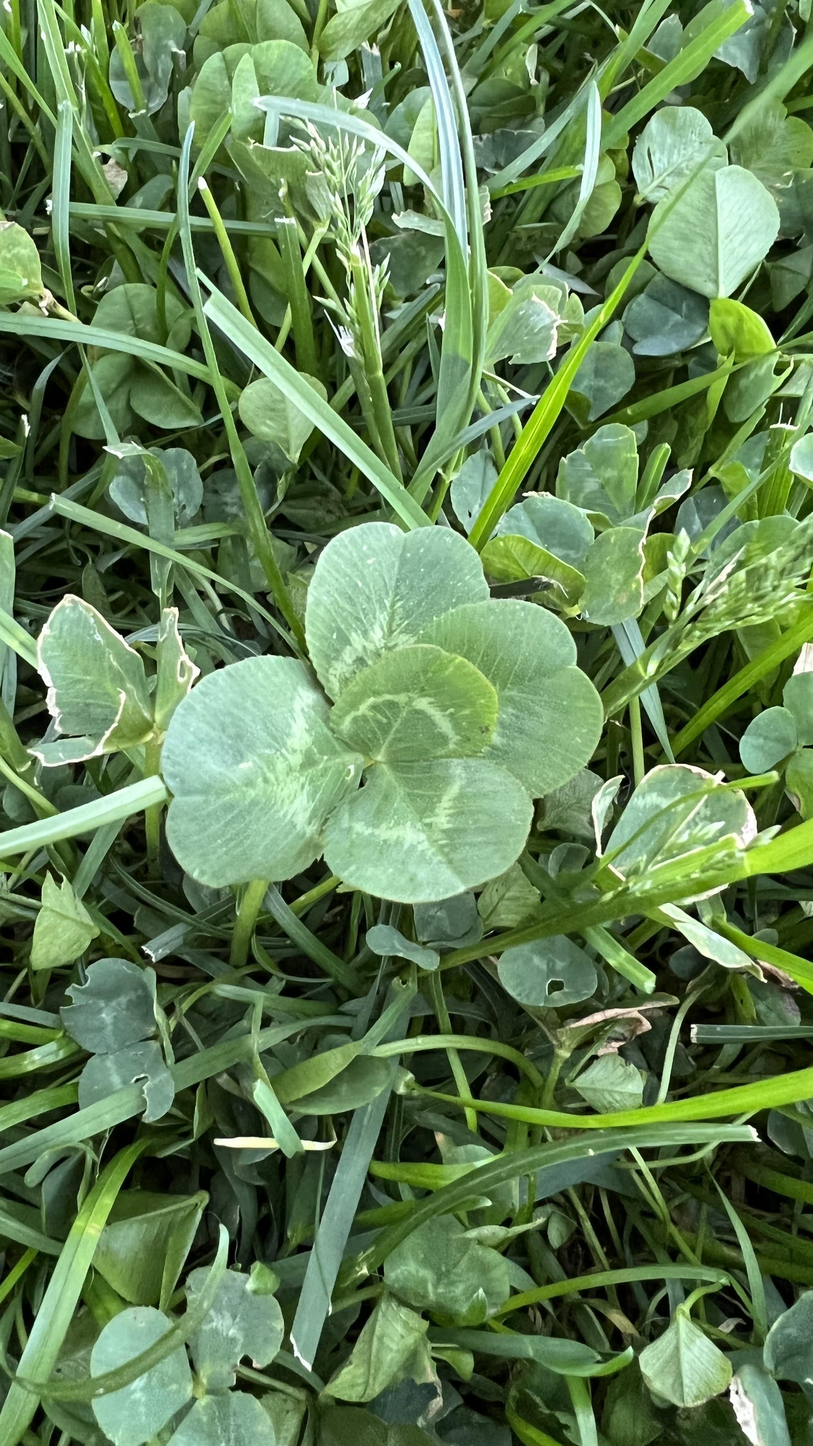5-Leaf-Clovers: (166, 520, 600, 900)
